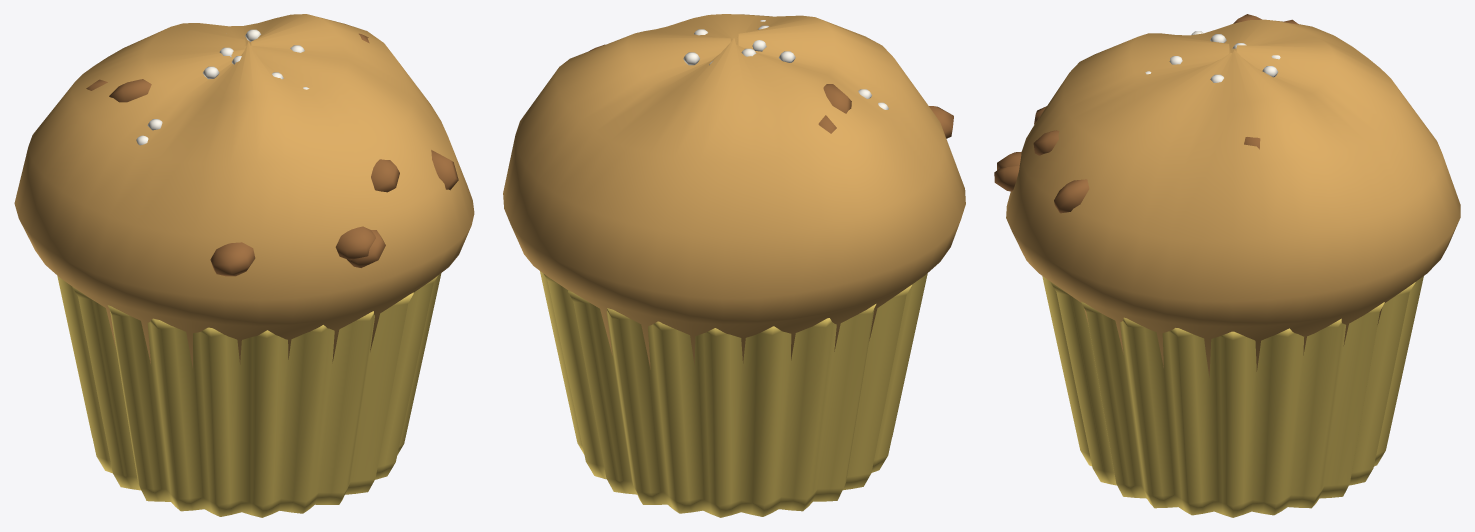
Rendered from banana-nut-muffin.glb.
3 renders of one model, left to right at view 1: azimuth 30°, elevation 25°; view 2: azimuth 150°, elevation 25°; view 3: azimuth 270°, elevation 25°, orthographic. The views are drawn at different scales.
Visible parts, largest first — view 1: edible_muffin.002, container_wrapper.002, edible_walnut, edible_walnut.005, edible_walnut.001, edible_walnut.006, edible_walnut.003, edible_walnut.007; view 2: edible_muffin.002, container_wrapper.002; view 3: edible_muffin.002, container_wrapper.002, edible_walnut.003.
Part boxes in pixels (x1=…): edible_muffin.002: x1=14, y1=14, x2=474, y2=367; container_wrapper.002: x1=57, y1=273, x2=441, y2=517; edible_walnut: x1=210, y1=242, x2=255, y2=276; edible_walnut.005: x1=335, y1=226, x2=375, y2=260; edible_walnut.001: x1=371, y1=159, x2=399, y2=192; edible_walnut.006: x1=109, y1=79, x2=151, y2=102; edible_walnut.003: x1=431, y1=150, x2=458, y2=190; edible_walnut.007: x1=347, y1=230, x2=385, y2=267; edible_muffin.002: x1=503, y1=14, x2=965, y2=369; container_wrapper.002: x1=540, y1=271, x2=927, y2=517; edible_muffin.002: x1=1006, y1=19, x2=1460, y2=377; container_wrapper.002: x1=1042, y1=276, x2=1423, y2=517; edible_walnut.003: x1=1054, y1=179, x2=1089, y2=213.
Size of the model in its own units: 0.108 by 0.1082 by 0.111.
